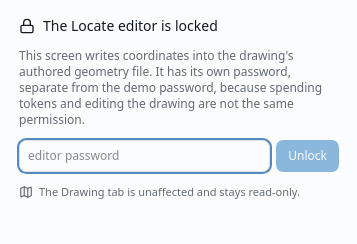
Test: LocateTab › is behind its own password, and says why
The image size is (357, 244).
expect the text "The Locate editor is locked" is shown: met, box [19,16,218,35]
Step 1. Type "nope" into the password field labelled "editor password" → (145, 156), box [19,140,270,172]
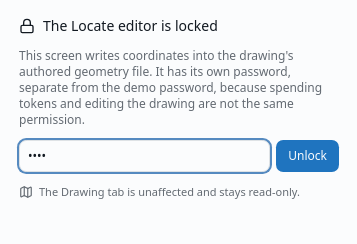
Step 2. Click the button "Unlock" → (308, 156), box [276,140,339,172]
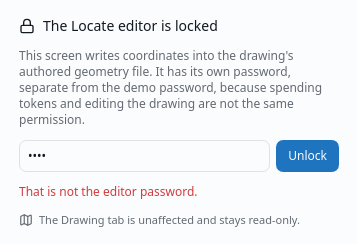
expect the text "That is not the editor password." is shown: met, box [19,183,198,200]
